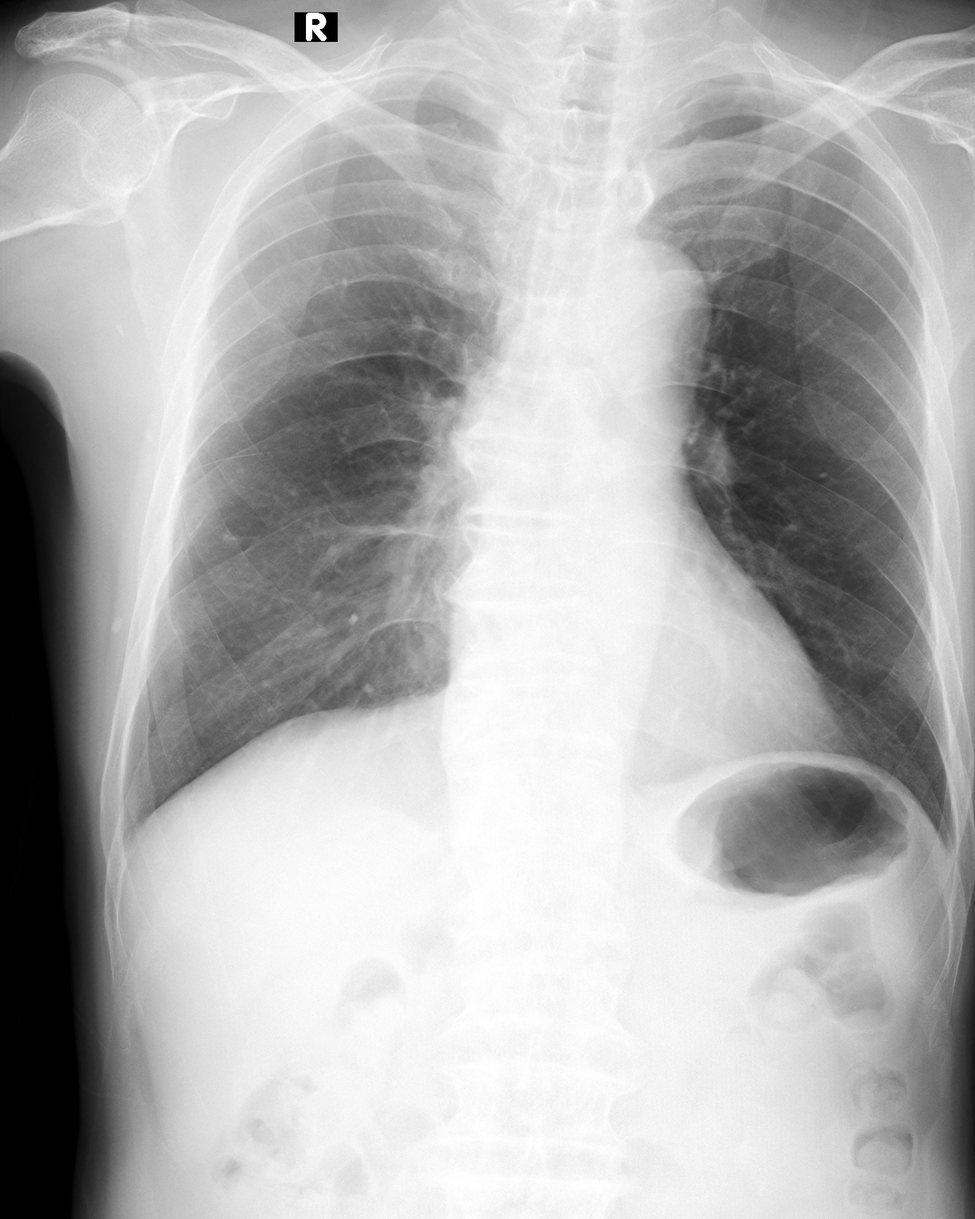Cardiomegaly: (585, 238, 711, 410)
Pulmonary fibrosis: (308, 522, 424, 583), (156, 508, 210, 593), (223, 530, 262, 543)
